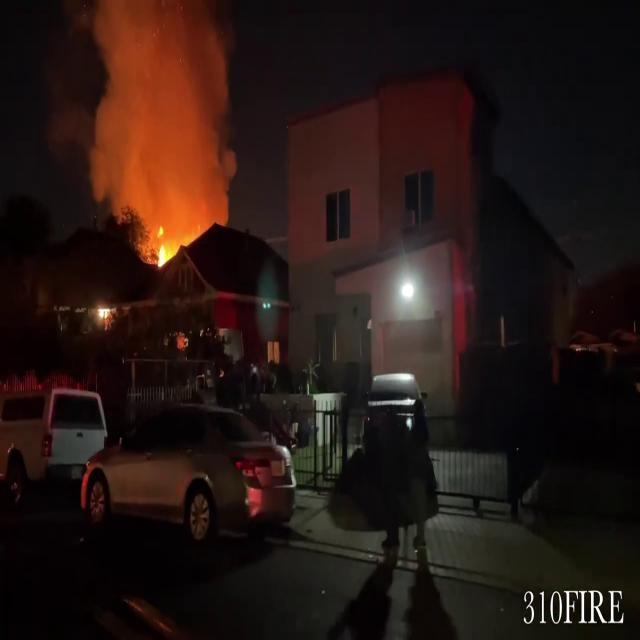Fire: (145, 220, 184, 274)
Smoke: (84, 0, 242, 224)
